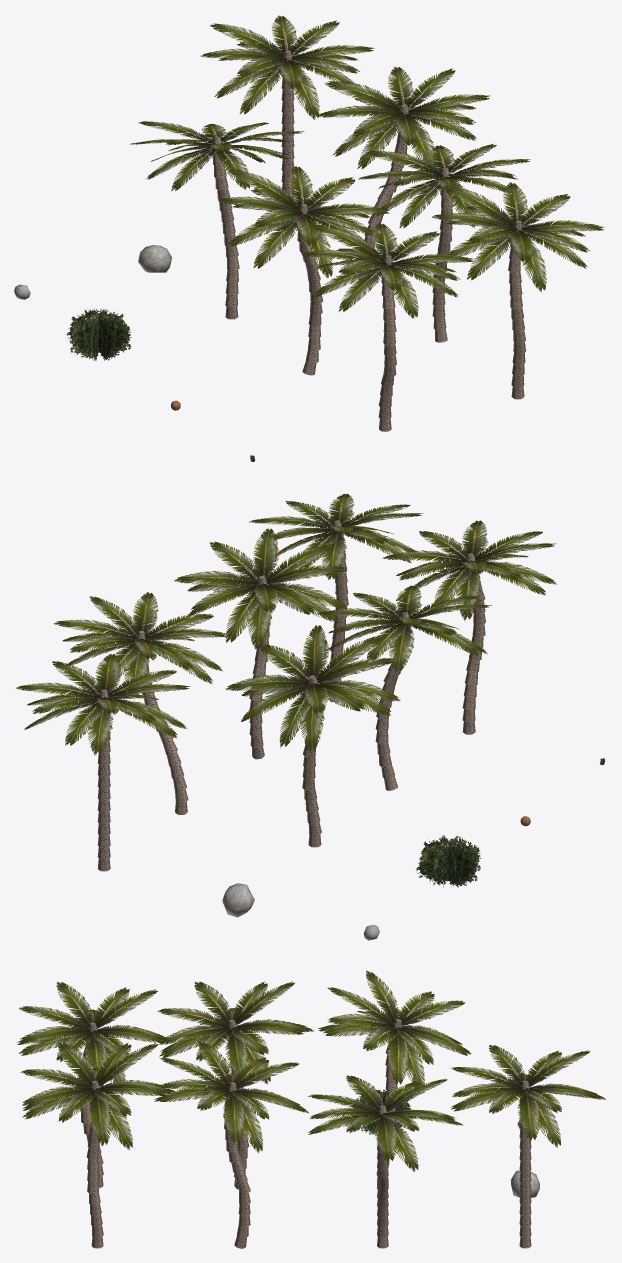
The model's file is palmtree.obj.
3 views of the same model, one above another, from view 1: azimuth 30°, elevation 25°; view 2: azimuth 150°, elevation 25°; view 3: azimuth 270°, elevation 25° (orthographic). The views are drawn at different scales.
Visible parts, largest first — view 1: palm_tree.003, palm_tree, palm_tree.005, palm_tree.002, leaves, palm_tree.001, palm_tree.004, bush, trunk, large_stone; view 2: palm_tree.004, palm_tree.001, palm_tree.005, palm_tree.002, leaves, palm_tree, palm_tree.003, bush, trunk, large_stone; view 3: palm_tree.003, palm_tree.001, palm_tree.004, palm_tree, palm_tree.002, palm_tree.005, leaves, trunk, bush, large_stone.
Part boxes in pixels (left/top/right/bottom): palm_tree.003: left=432, top=182, right=605, bottom=399; palm_tree: left=217, top=166, right=389, bottom=375; palm_tree.005: left=317, top=66, right=490, bottom=286; palm_tree.002: left=301, top=223, right=474, bottom=431; leaves: left=200, top=15, right=374, bottom=119; palm_tree.001: left=358, top=144, right=530, bottom=342; palm_tree.004: left=130, top=121, right=304, bottom=319; bush: left=66, top=308, right=131, bottom=360; trunk: left=281, top=50, right=294, bottom=230; large_stone: left=138, top=245, right=171, bottom=272; palm_tree.004: left=225, top=625, right=400, bottom=847; palm_tree.001: left=174, top=528, right=347, bottom=759; palm_tree.005: left=53, top=592, right=227, bottom=814; palm_tree.002: left=382, top=520, right=556, bottom=734; leaves: left=16, top=654, right=190, bottom=755; palm_tree: left=317, top=585, right=491, bottom=790; palm_tree.003: left=249, top=493, right=423, bottom=701; bush: left=416, top=835, right=481, bottom=887; trunk: left=97, top=689, right=110, bottom=871; large_stone: left=222, top=883, right=254, bottom=917; palm_tree.003: left=20, top=1042, right=176, bottom=1248; palm_tree.001: left=154, top=1041, right=308, bottom=1248; palm_tree.004: left=318, top=970, right=471, bottom=1185; palm_tree: left=157, top=981, right=313, bottom=1189; palm_tree.002: left=17, top=982, right=167, bottom=1188; palm_tree.005: left=308, top=1075, right=463, bottom=1248; leaves: left=450, top=1045, right=605, bottom=1147; trunk: left=519, top=1080, right=531, bottom=1248; bush: left=352, top=1089, right=411, bottom=1134; large_stone: left=510, top=1170, right=539, bottom=1197.
Size of the model in its own units: 31.03 by 15.25 by 41.64.
7 materials, 7 textured.
